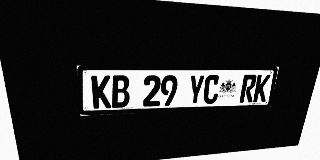2: (143, 75, 161, 107)
9: (160, 75, 178, 106)
B: (111, 75, 130, 108)
C: (202, 75, 220, 104)
K: (91, 75, 111, 109), (253, 75, 271, 102)
R: (239, 75, 257, 103)
Y: (187, 75, 205, 105)
